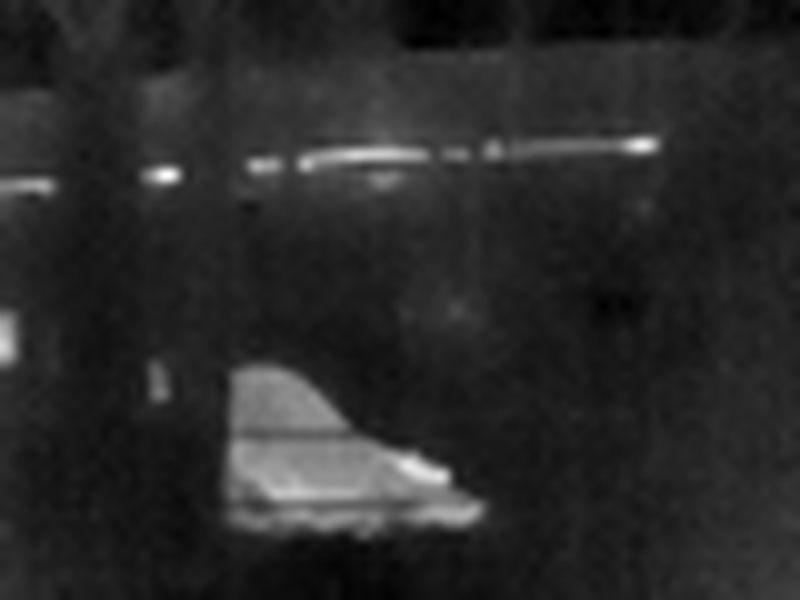elephant: (124, 350, 476, 557)
